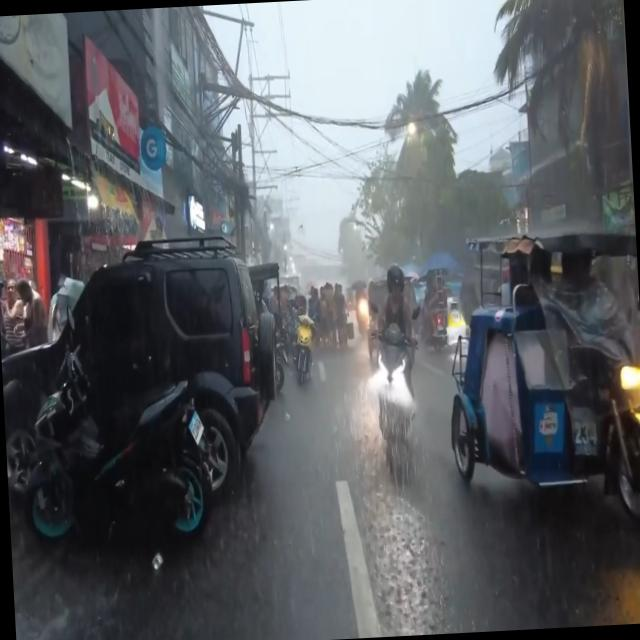half: (385, 262, 407, 300)
